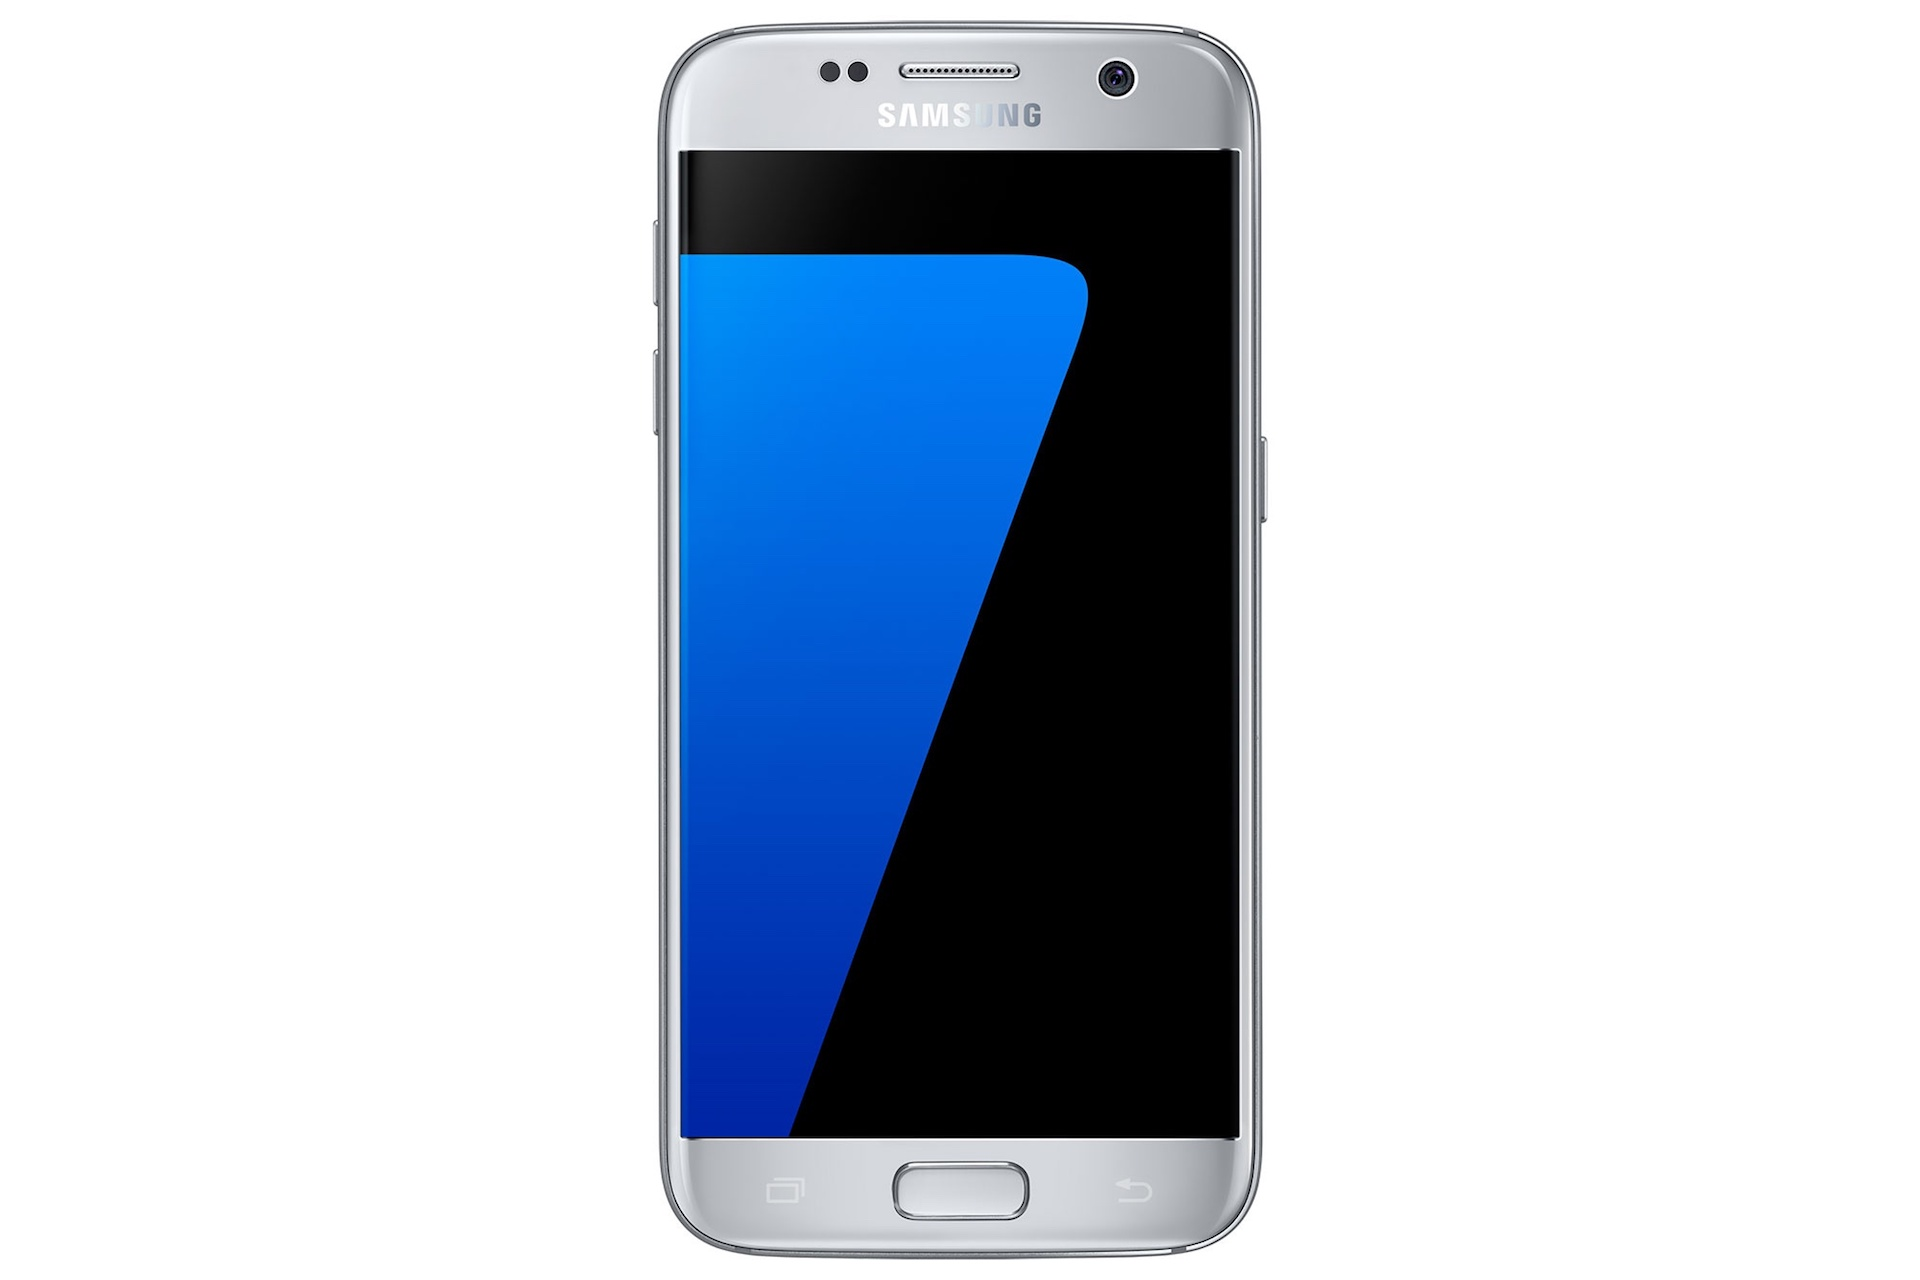smartphone: (651, 20, 1269, 1264)
